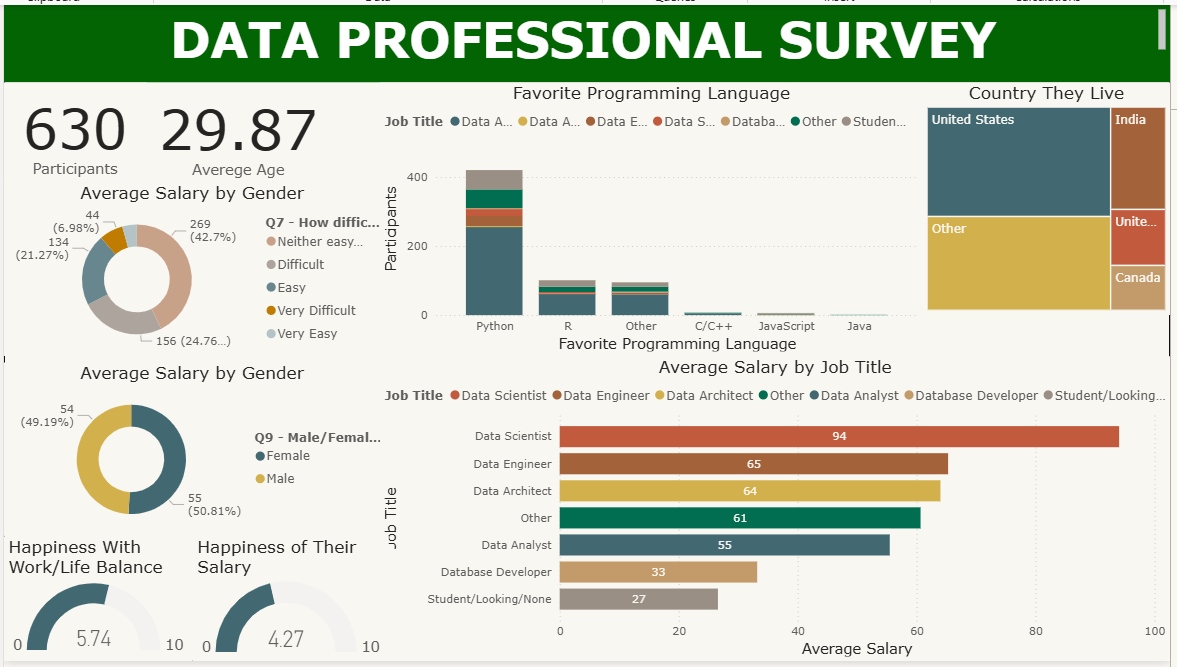

This screenshot's page, from the dashboard's own definition file:
{"tool":"powerbi","page":{"name":"Page 1","canvas":[1280,720],"ordinal":0},"visuals":[{"type":"textbox","box":[0,0,1280.3,85.1],"z":0},{"type":"card","fields":{"Values":["CountNonNull(Data Professional Survey.Unique ID)"]},"box":[0,85.1,156.4,113.9],"z":1},{"type":"card","fields":{"Values":["Avg(Data Professional Survey.Q10 - Current Age)"]},"box":[156.4,86.4,156.4,113.9],"z":2},{"type":"barChart","title":"Average Salary by Job Title","fields":{"Category":["Data Professional Survey.Q1 - Which Title Best Fits your Current Role?.1"],"Y":["Avg(Data Professional Survey.Average Salary)"],"Series":["Data Professional Survey.Q1 - Which Title Best Fits your Current Role?.1"]},"box":[413,385.6,867.2,334.8],"z":3},{"type":"columnChart","title":"Favorite Programming Language","fields":{"Category":["Data Professional Survey.Q5 - Favorite Programming Language.1"],"Y":["CountNonNull(Data Professional Survey.Unique ID)"],"Series":["Data Professional Survey.Q1 - Which Title Best Fits your Current Role?.1"]},"box":[413,85.1,595.5,300.5],"z":4},{"type":"treemap","title":"Country They Live","fields":{"Values":["CountNonNull(Data Professional Survey.Q11 - Which Country do you live in?.1)"],"Group":["Data Professional Survey.Q11 - Which Country do you live in?.1"]},"box":[1008.6,85.1,271.7,255.2],"z":5},{"type":"gauge","title":"Happiness With Work/Life Balance","fields":{"Y":["Avg(Data Professional Survey.Q6 - How Happy are you in your Current Position with the following? (Work/Life Balance))"],"MinValue":["Min(Data Professional Survey.Q6 - How Happy are you in your Current Position with the following? (Work/Life Balance))"],"MaxValue":["Max(Data Professional Survey.Q6 - How Happy are you in your Current Position with the following? (Work/Life Balance))"]},"box":[0,583.2,207.2,137.2],"z":6},{"type":"gauge","title":"Happiness of Their Salary","fields":{"Y":["Avg(Data Professional Survey.Q6 - How Happy are you in your Current Position with the following? (Salary))"],"MinValue":["Min(Data Professional Survey.Q6 - How Happy are you in your Current Position with the following? (Salary))"],"MaxValue":["Max(Data Professional Survey.Q6 - How Happy are you in your Current Position with the following? (Salary))"]},"box":[207.2,583.2,215.4,137.2],"z":7},{"type":"donutChart","title":"Average Salary by Gender","fields":{"Category":["Data Professional Survey.Q9 - Male/Female?"],"Y":["Avg(Data Professional Survey.Average Salary)"]},"box":[0,392.5,413,190.7],"z":8},{"type":"donutChart","title":"Average Salary by Gender","fields":{"Category":["Data Professional Survey.Q7 - How difficult was it for you to break into Data?"],"Y":["CountNonNull(Data Professional Survey.Q7 - How difficult was it for you to break into Data?)"]},"box":[0,194.9,413,190.7],"z":9}]}

Visuals, with their boxes in screenshot pixels (x1, y1, x2, y2), scaled from the page's 1280x720 canvas onto the 1177x667 screenshot:
textbox: box(0, 0, 1176, 79)
card - CountNonNull(Data Professional Survey.Unique ID): box(0, 79, 144, 184)
card - Avg(Data Professional Survey.Q10 - Current Age): box(144, 80, 288, 186)
"Average Salary by Job Title" barChart: box(380, 357, 1176, 666)
"Favorite Programming Language" columnChart: box(380, 79, 927, 357)
"Country They Live" treemap: box(927, 79, 1176, 315)
"Happiness With Work/Life Balance" gauge: box(0, 540, 191, 666)
"Happiness of Their Salary" gauge: box(191, 540, 389, 666)
"Average Salary by Gender" donutChart: box(0, 364, 380, 540)
"Average Salary by Gender" donutChart: box(0, 181, 380, 357)
